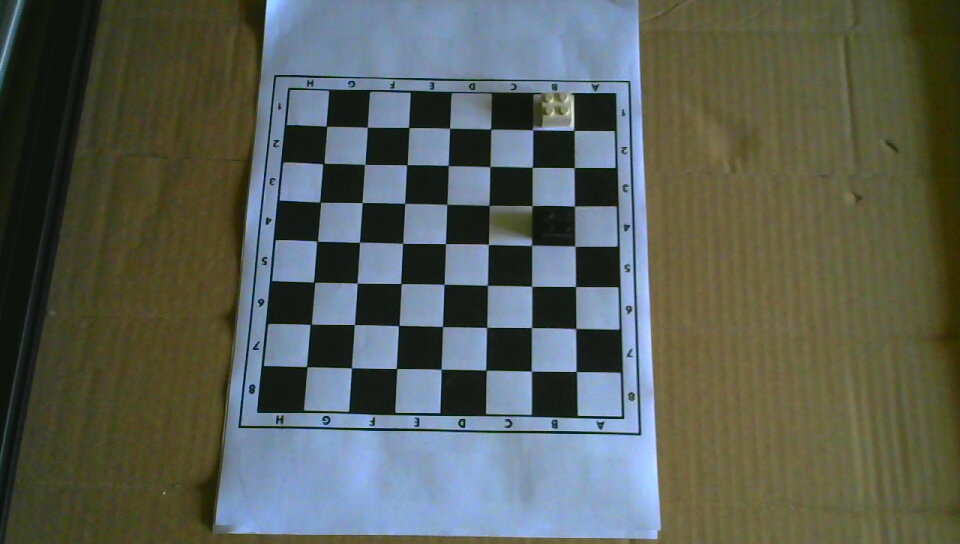bp: (537, 205, 574, 243)
wp: (539, 90, 573, 129)
